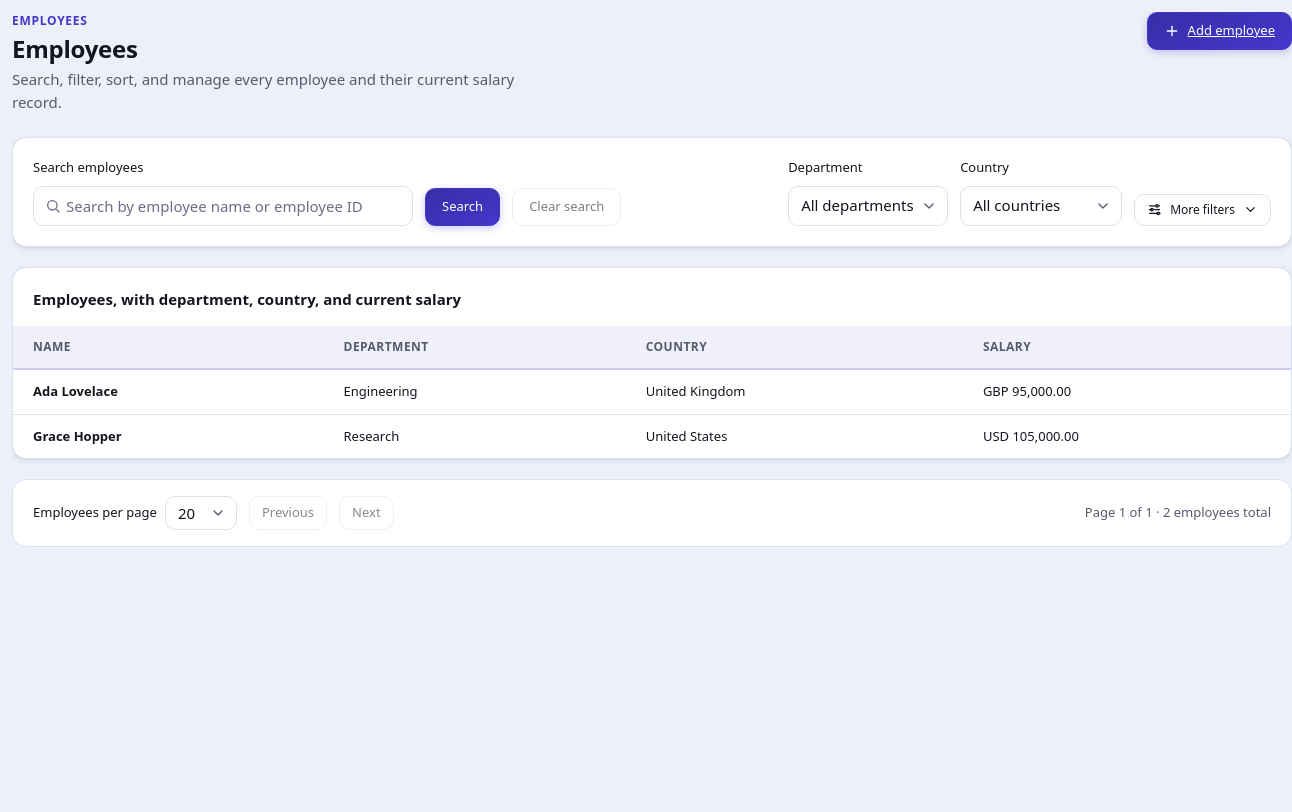
Test case: EmployeeListPage › shows a clear, accessible message when a search has no matching employees
This screenshot has width=1292, height=812.
Expected: the link "Grace Hopper" is shown, x1=33 y1=426 x2=122 y2=444
Step 1. Type "zzz-no-such-employee" into the search field labelled "Search employees" → (223, 206), box x1=33 y1=186 x2=413 y2=226
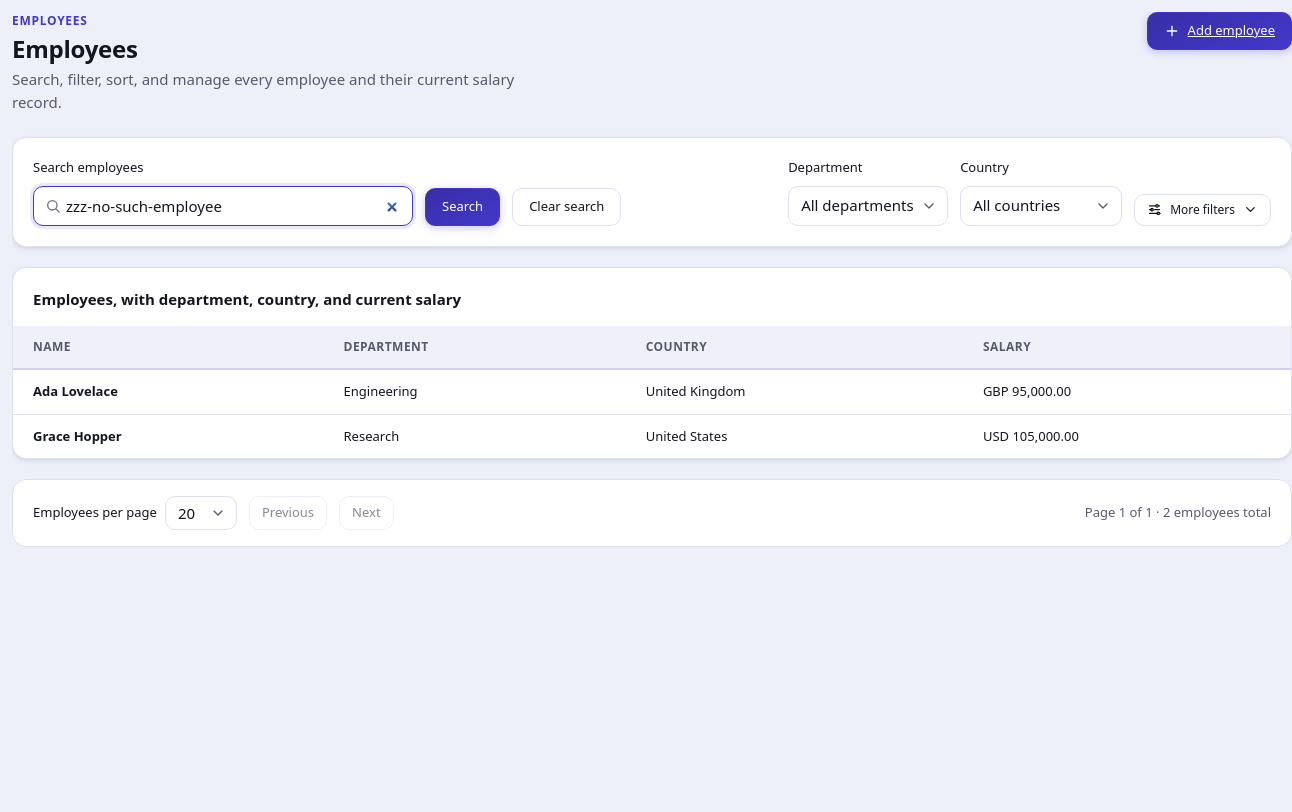
Step 2. Click the button "Search" → click(463, 206), box x1=425 y1=188 x2=500 y2=226
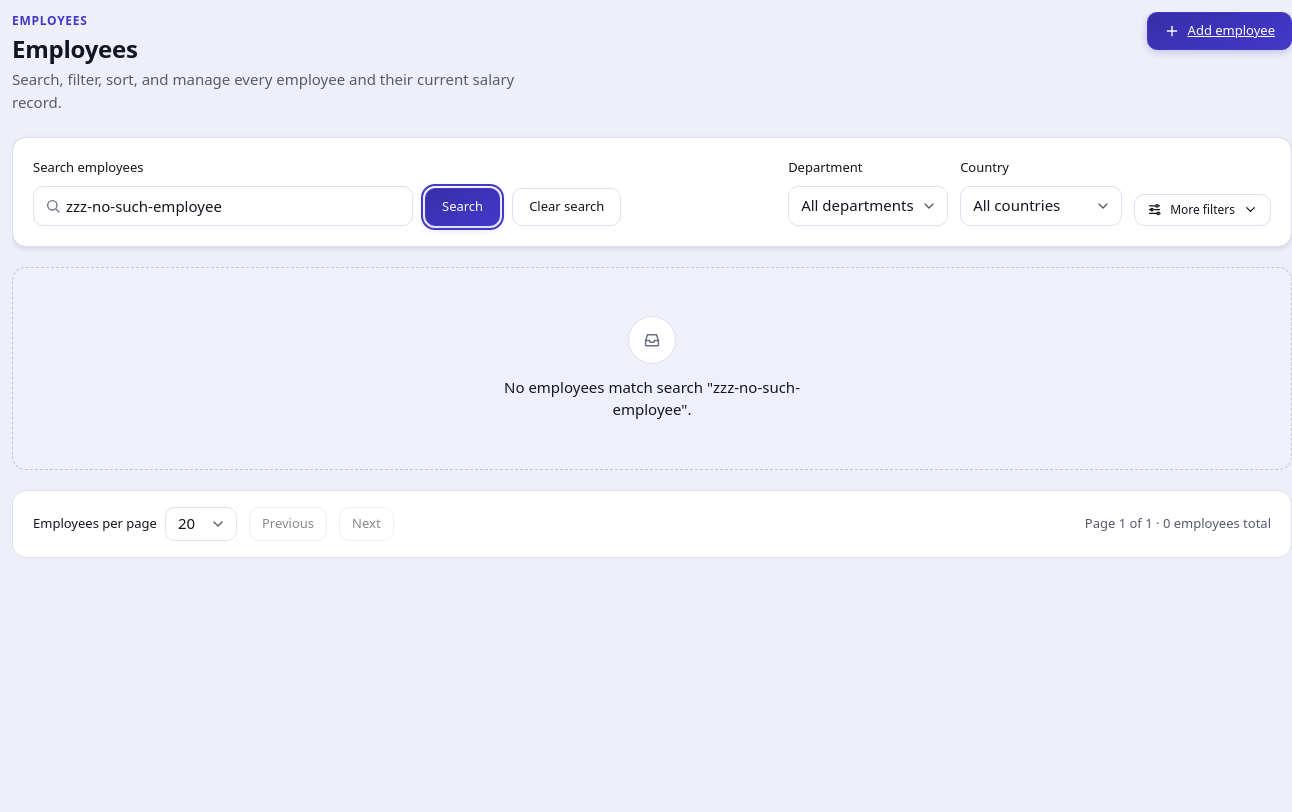
Expected: the text "No employees match search \"zzz-no-such-employee\"." is shown, x1=504 y1=376 x2=800 y2=419
